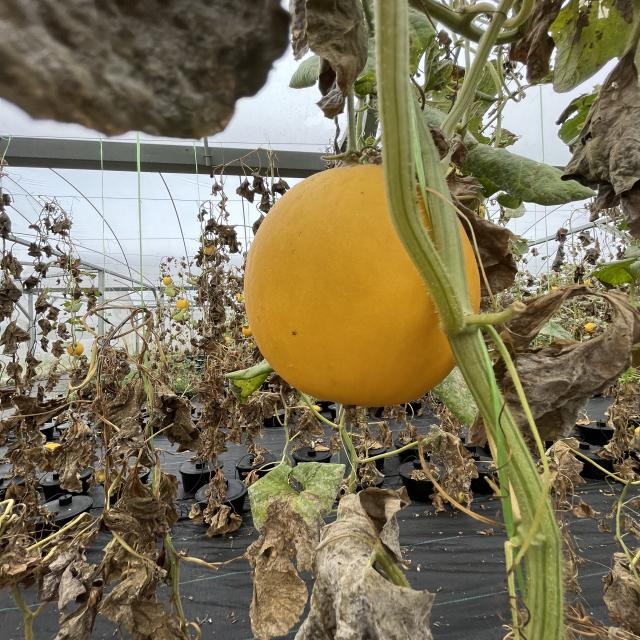bacterial wilt: (246, 471, 364, 640), (511, 291, 638, 437), (316, 500, 428, 640), (266, 0, 366, 112), (540, 0, 640, 95), (579, 77, 640, 202), (99, 563, 167, 640), (49, 547, 107, 629), (103, 500, 165, 560), (32, 526, 88, 581), (110, 440, 162, 491), (8, 433, 56, 486), (541, 431, 583, 476), (172, 390, 212, 437)
